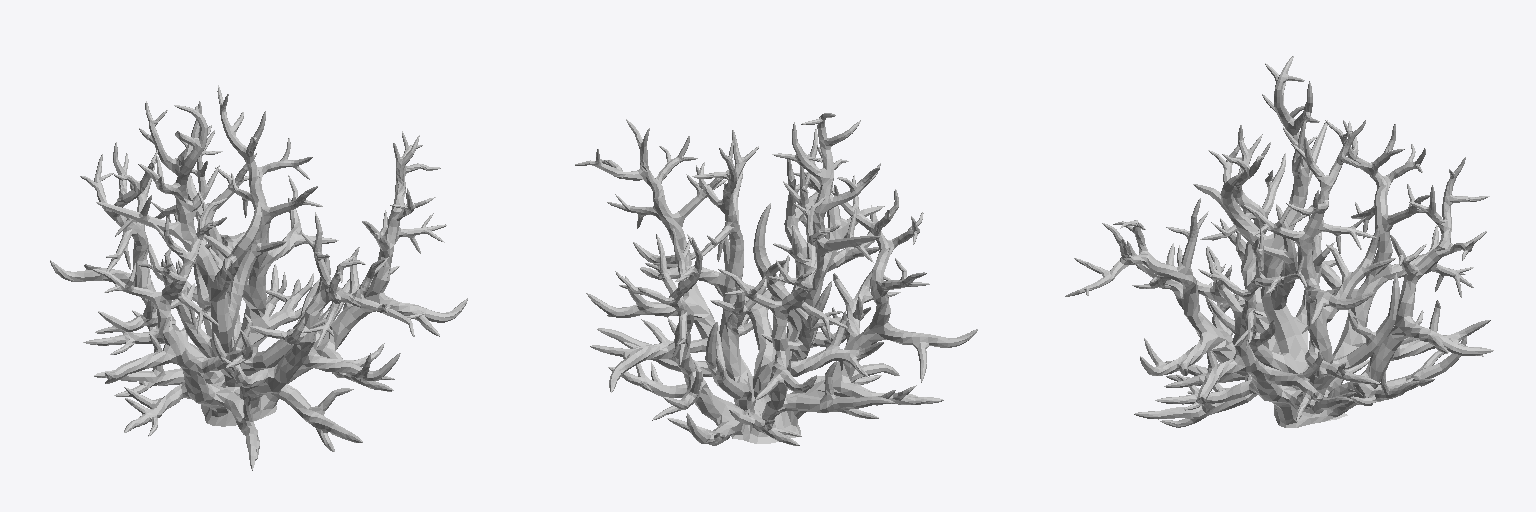
Rendered from coral.obj.
3 views of the same model, side by side, from view 1: azimuth 30°, elevation 25°; view 2: azimuth 150°, elevation 25°; view 3: azimuth 270°, elevation 25° (orthographic).
Parts seen in each view (by area): view 1: 03; view 2: 03; view 3: 03.
Part boxes in pixels (left/top/right/bottom): 03: left=50, top=85, right=467, bottom=470; 03: left=575, top=113, right=977, bottom=445; 03: left=1065, top=56, right=1493, bottom=427.
Size of the model in its own units: 2.58 by 2.24 by 2.66.